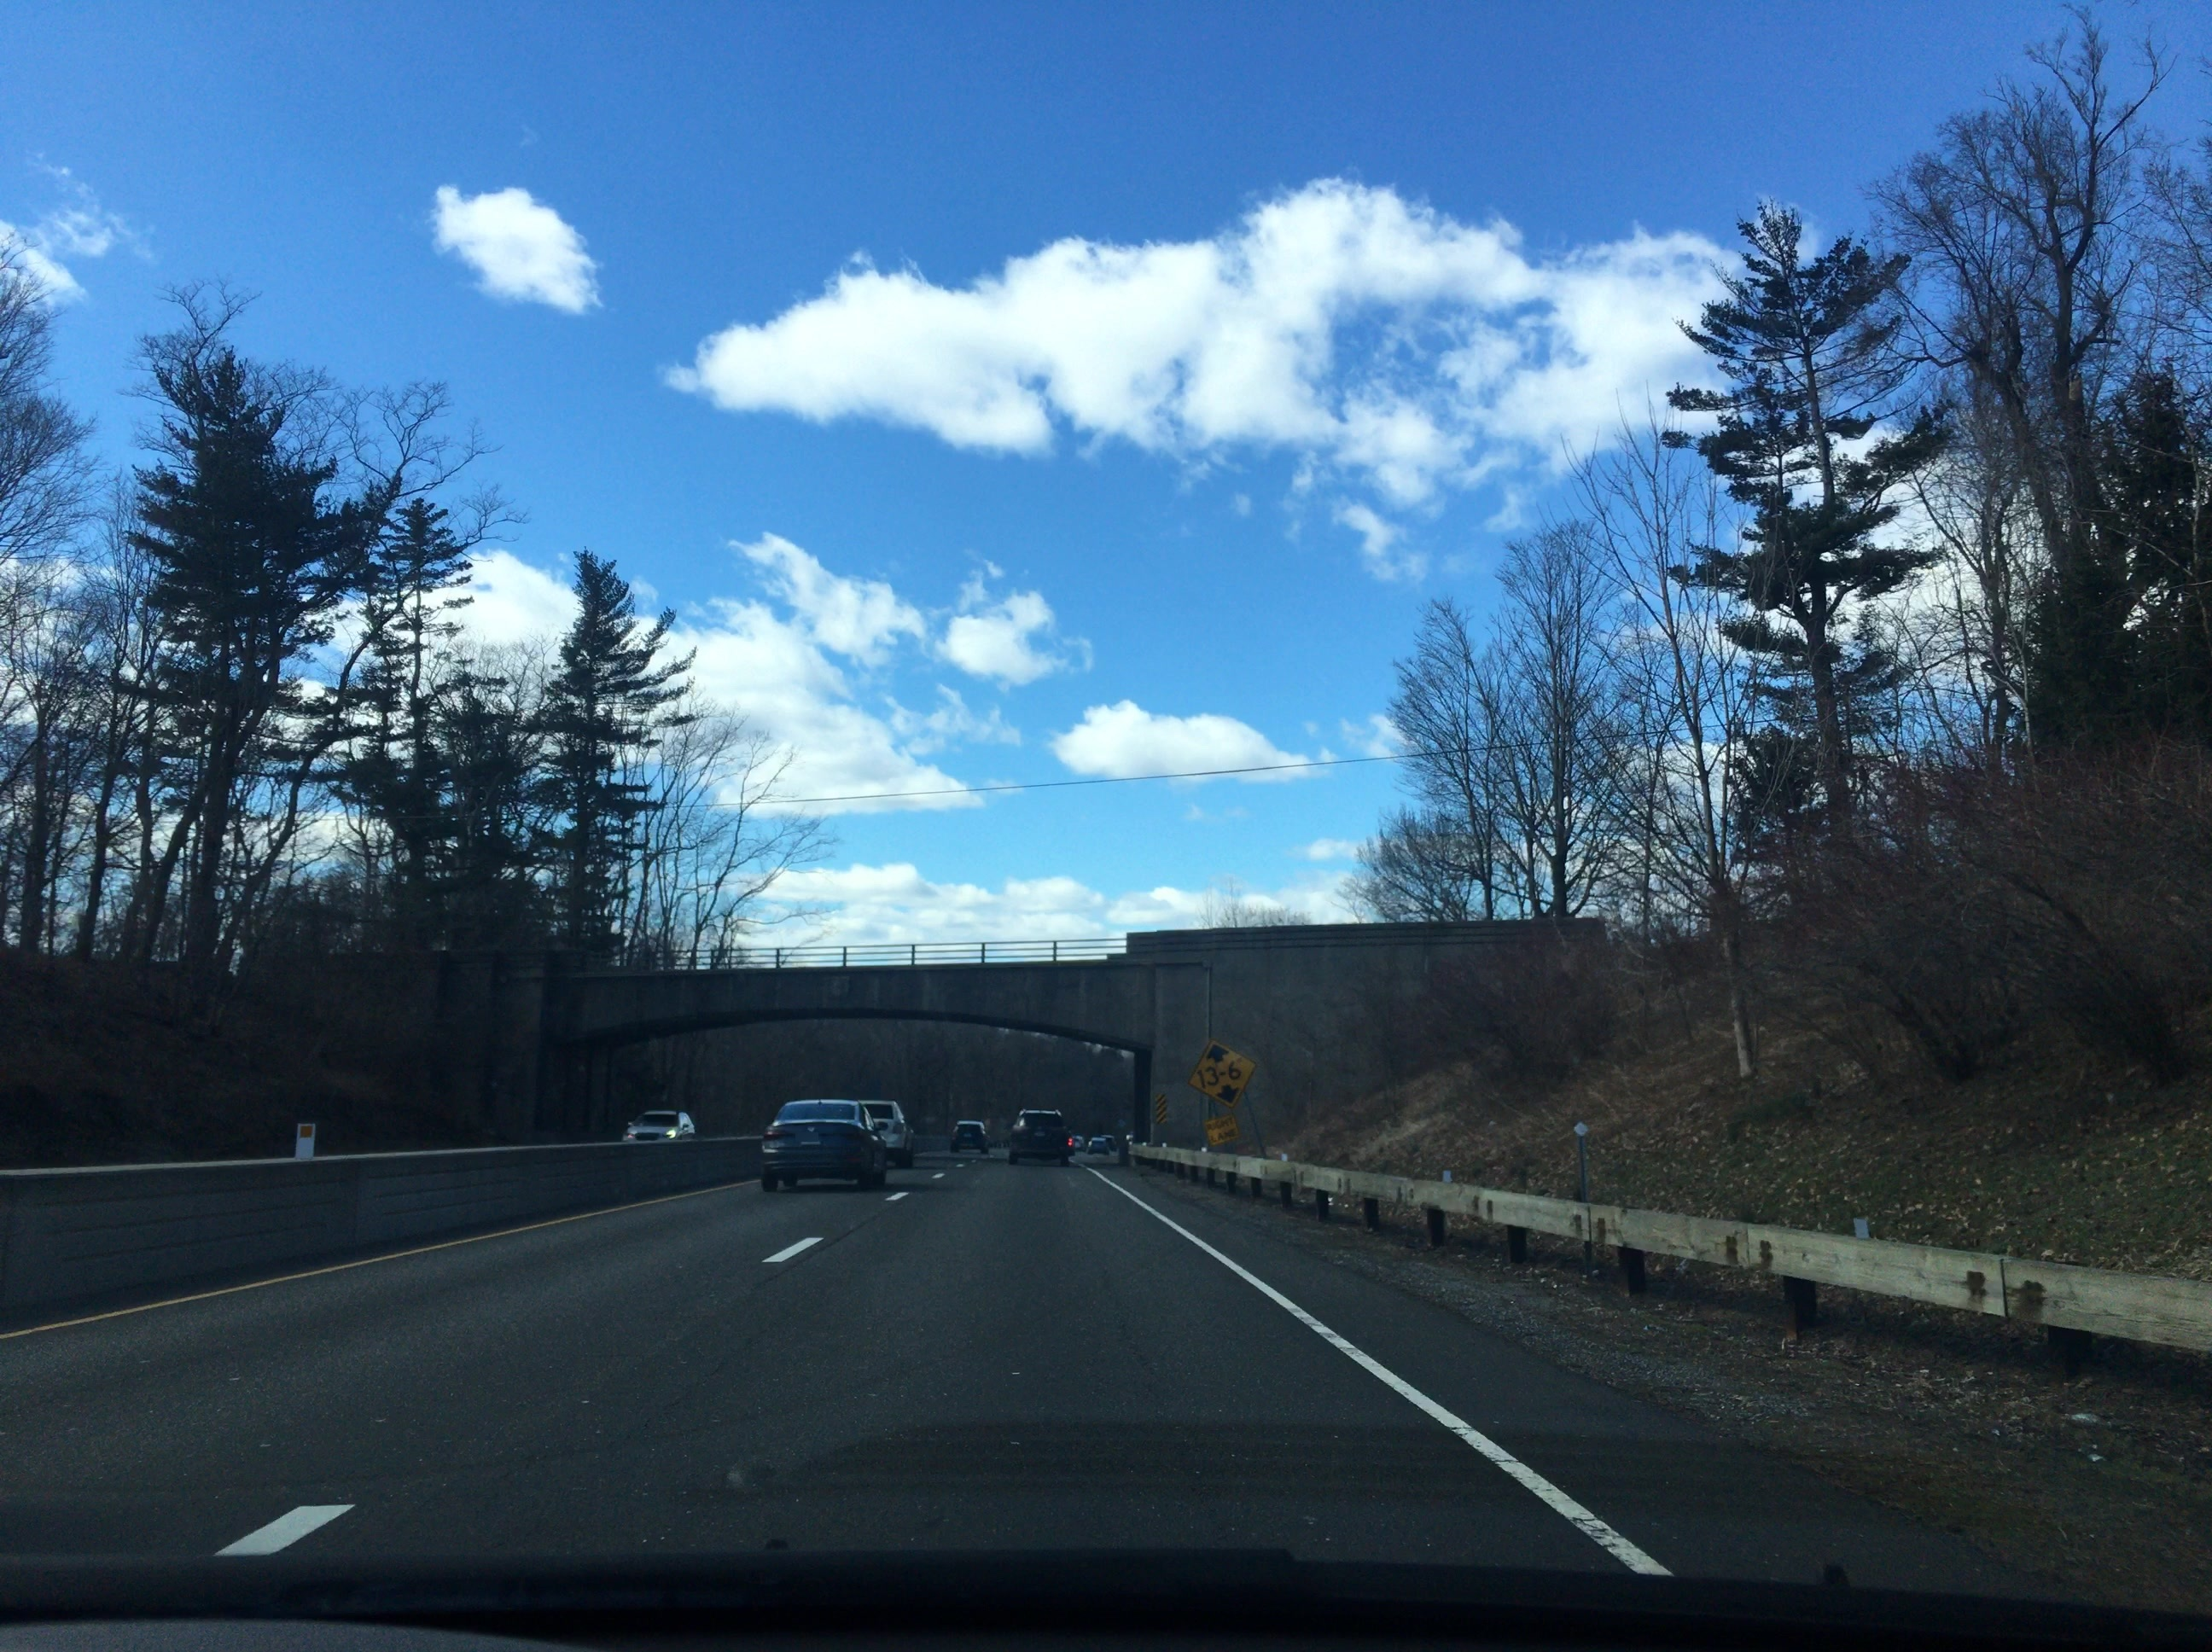low-clearance-sign: (1187, 1039, 1256, 1109)
